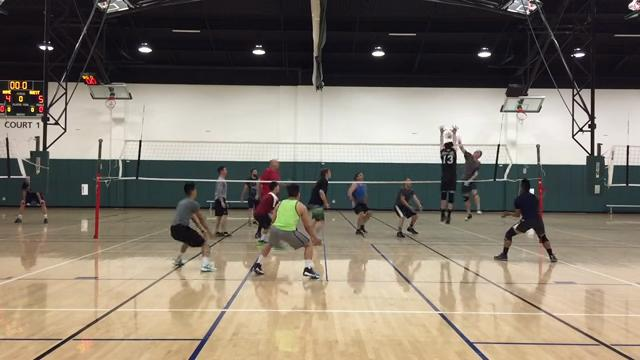Attack: (453, 135, 487, 222)
Block: (432, 121, 461, 224)
Player: (252, 184, 321, 278), (494, 179, 557, 261), (170, 183, 215, 271), (394, 178, 421, 237), (254, 181, 278, 244), (308, 168, 330, 233), (347, 172, 370, 234), (214, 166, 230, 236), (241, 169, 259, 224), (258, 159, 280, 198), (628, 0, 639, 10)
ball: (444, 129, 453, 141)
